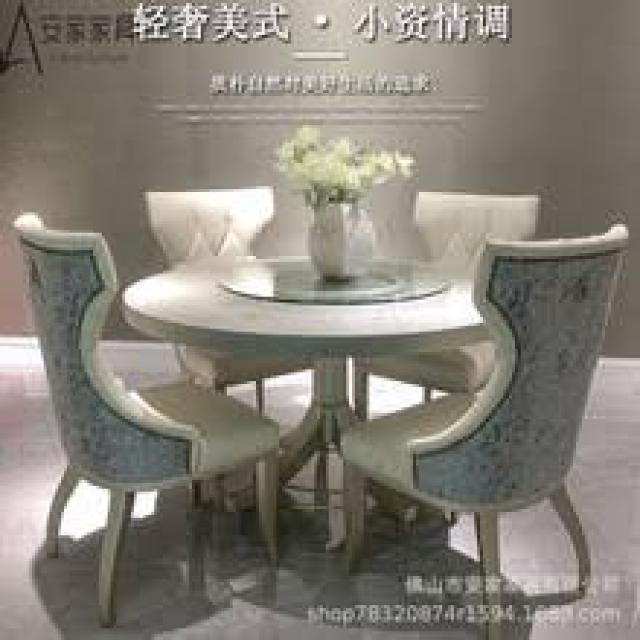table: (16, 167, 612, 622)
